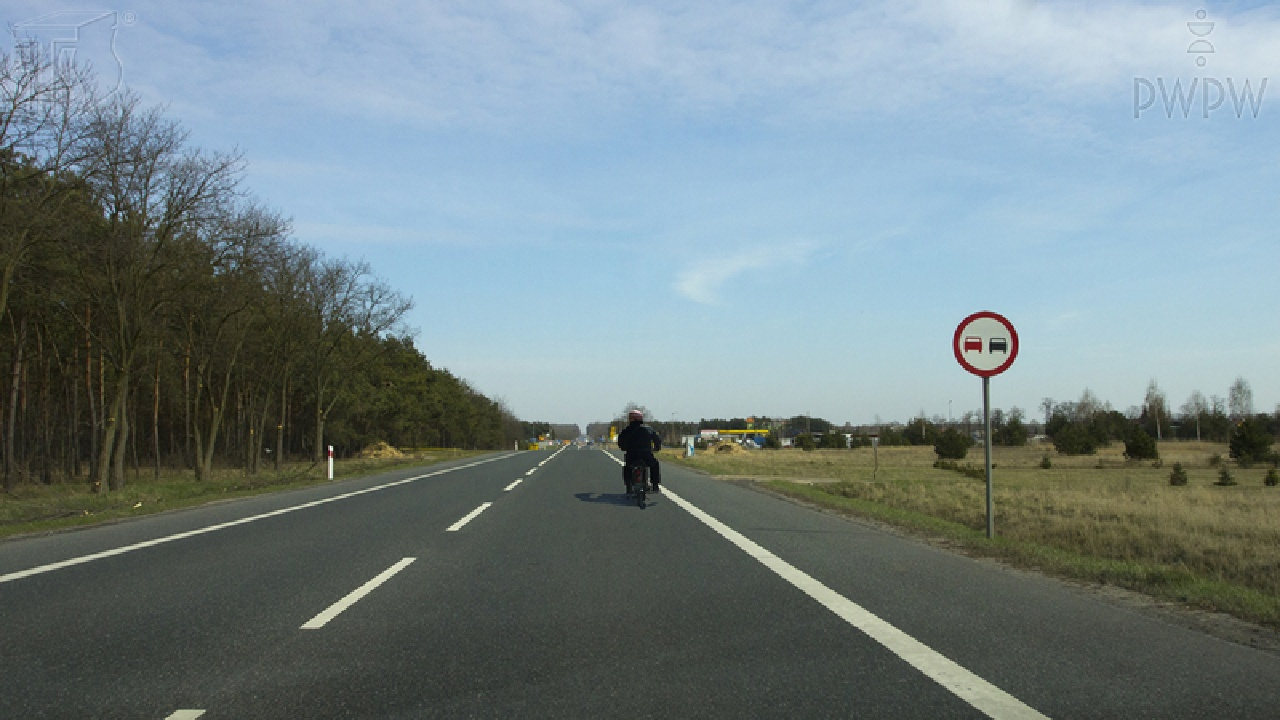B25: (954, 310, 1018, 377)
